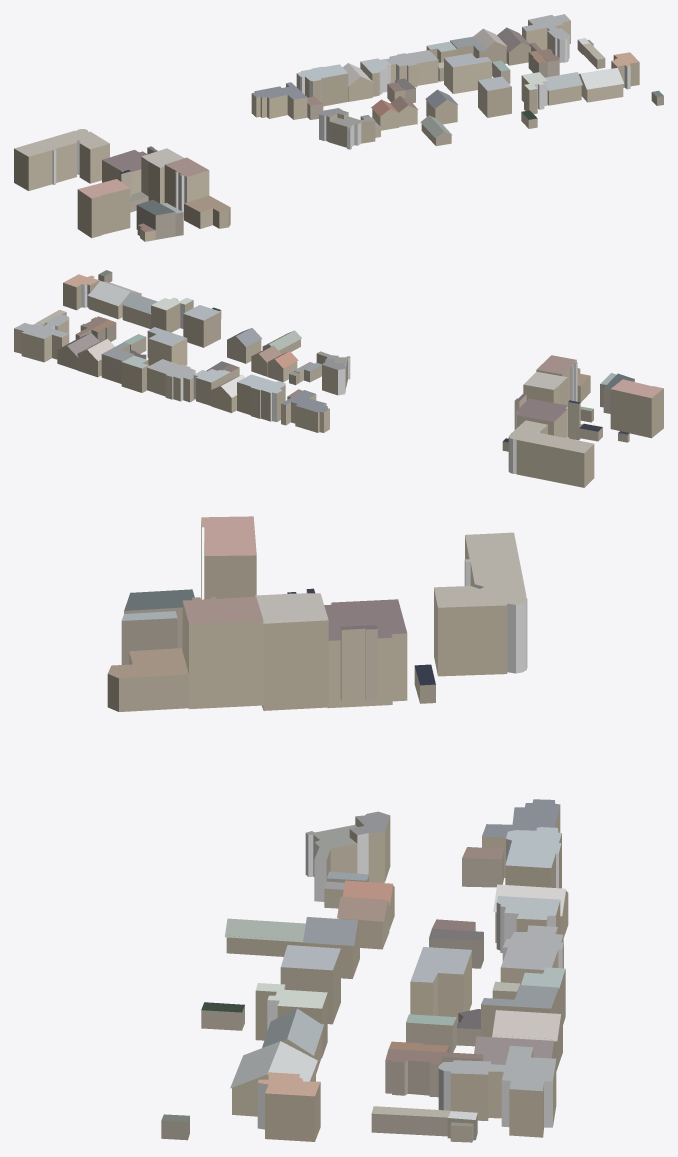
3 renders of one model, top to bottom at view 1: azimuth 30°, elevation 25°; view 2: azimuth 150°, elevation 25°; view 3: azimuth 270°, elevation 25°, orthographic. The views are drawn at different scales.
Parts seen in each view (by area): view 1: tuile; view 2: tuile; view 3: tuile.
Part boxes in pixels (<box>): tuile: <box>14,14,663,241</box>; tuile: <box>14,270,663,487</box>; tuile: <box>107,516,568,1142</box>.
Bounding box in the file's own units: 257 × 20.86 × 90.61.
